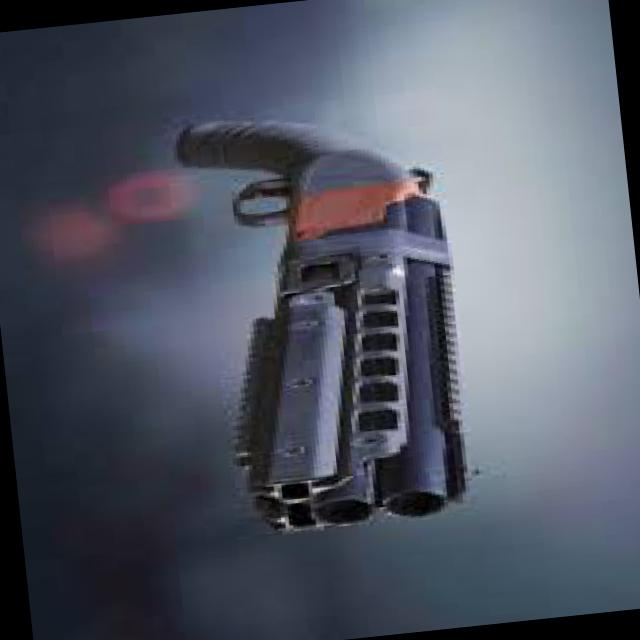long weapon: (151, 104, 521, 547)
